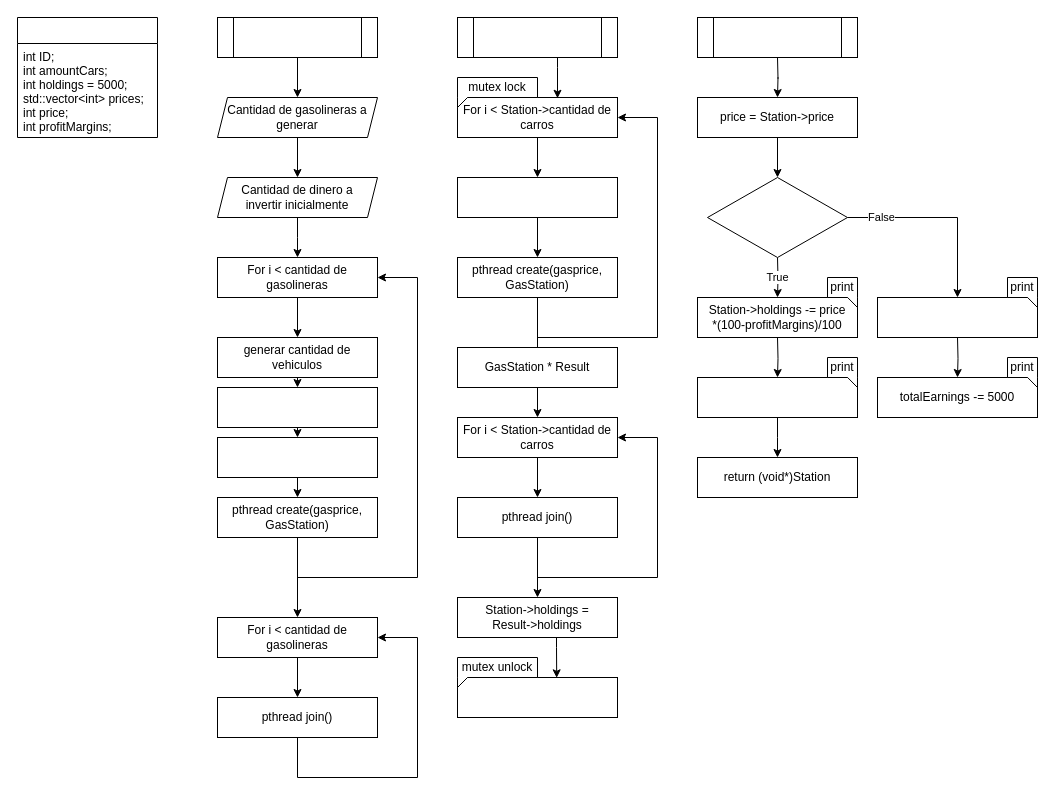
The diagram is 1055 pixels wide and 803 high, and some of its shapes have lost their labels. The box of each missing label's shape, as (x1, y1, x2, y2) in pixels:
GasStation: (16, 16, 158, 138)
GasStation->price = GasStation->prices[ i ]: (456, 176, 618, 218)
generar gastos por vehiculo: (216, 386, 378, 428)
generar margen de ganancia: (216, 436, 378, 478)
if price < Station->holdings: (706, 176, 848, 258)
int main(): (216, 16, 378, 58)
return 0: (456, 676, 618, 718)
Station->holdings += 5000: (876, 296, 1038, 338)
totalEarnings += price: (696, 376, 858, 418)
void*gasPrice: (696, 16, 858, 58)
void*gasStation: (456, 16, 618, 58)
